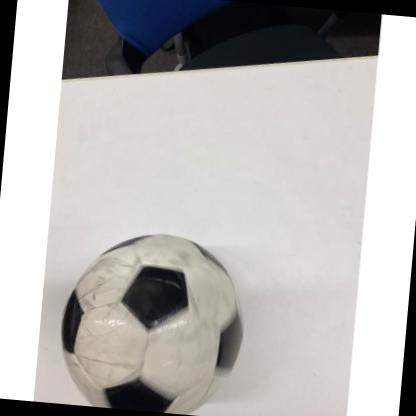ball: (54, 225, 251, 416)
